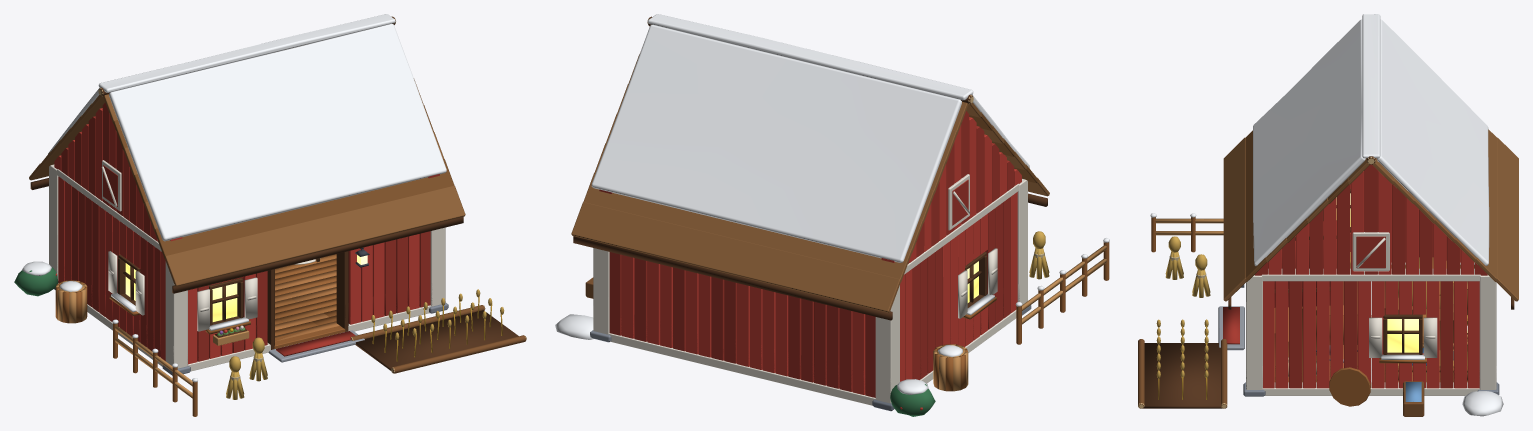
The model's file is farm.glb.
3 views of the same model, side by side, from view 1: azimuth 30°, elevation 25°; view 2: azimuth 150°, elevation 25°; view 3: azimuth 270°, elevation 25° (orthographic). The views are drawn at different scales.
Visible parts, largest first — view 1: roof, walls, exterior, floor, walls_low; view 2: roof, walls, exterior, walls_low; view 3: roof, walls, exterior, floor, walls_low, interior.
Part boxes in pixels (x1=…): roof: x1=29, y1=14, x2=465, y2=293; walls: x1=49, y1=164, x2=448, y2=375; exterior: x1=14, y1=261, x2=526, y2=416; floor: x1=268, y1=254, x2=364, y2=362; walls_low: x1=49, y1=256, x2=445, y2=365; roof: x1=571, y1=14, x2=1049, y2=320; walls: x1=590, y1=179, x2=1031, y2=411; exterior: x1=555, y1=231, x2=1109, y2=416; walls_low: x1=593, y1=281, x2=1026, y2=401; roof: x1=1223, y1=14, x2=1518, y2=309; walls: x1=1241, y1=170, x2=1499, y2=396; exterior: x1=1138, y1=213, x2=1503, y2=416; floor: x1=1218, y1=265, x2=1474, y2=382; walls_low: x1=1246, y1=240, x2=1496, y2=389; interior: x1=1288, y1=252, x2=1467, y2=380.
Size of the model in its own units: 7.63 by 5.23 by 7.17.
